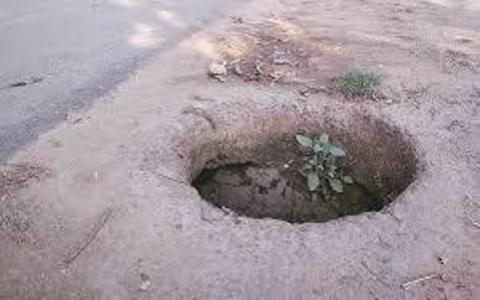open manhole: (136, 88, 437, 237)
